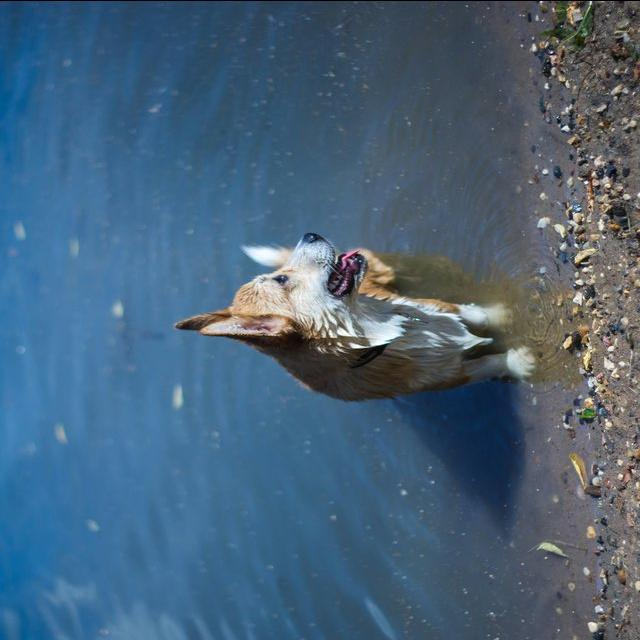corgi: (172, 230, 537, 402)
